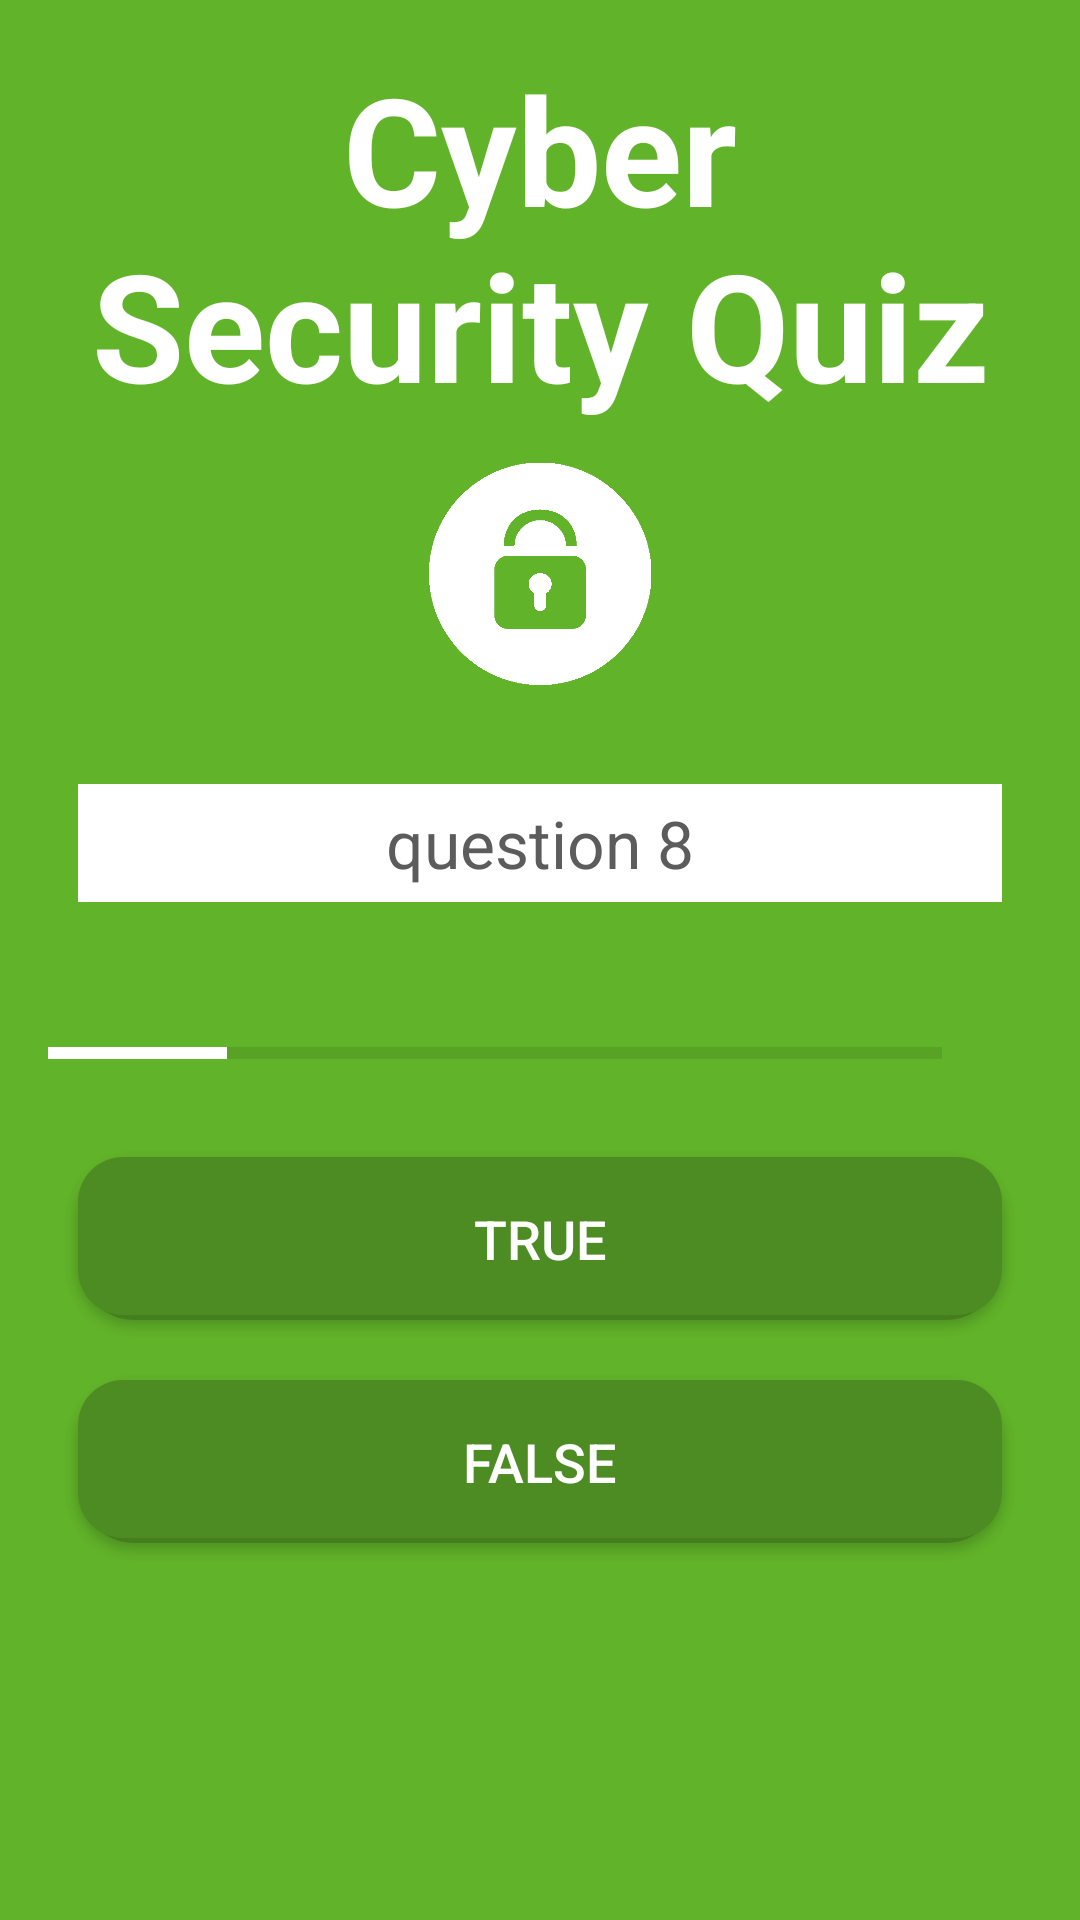

Named icons in this screenshot (1080 × 1920) and their centers, (x=x, y=y):
lockwhite: (x=540, y=574)
